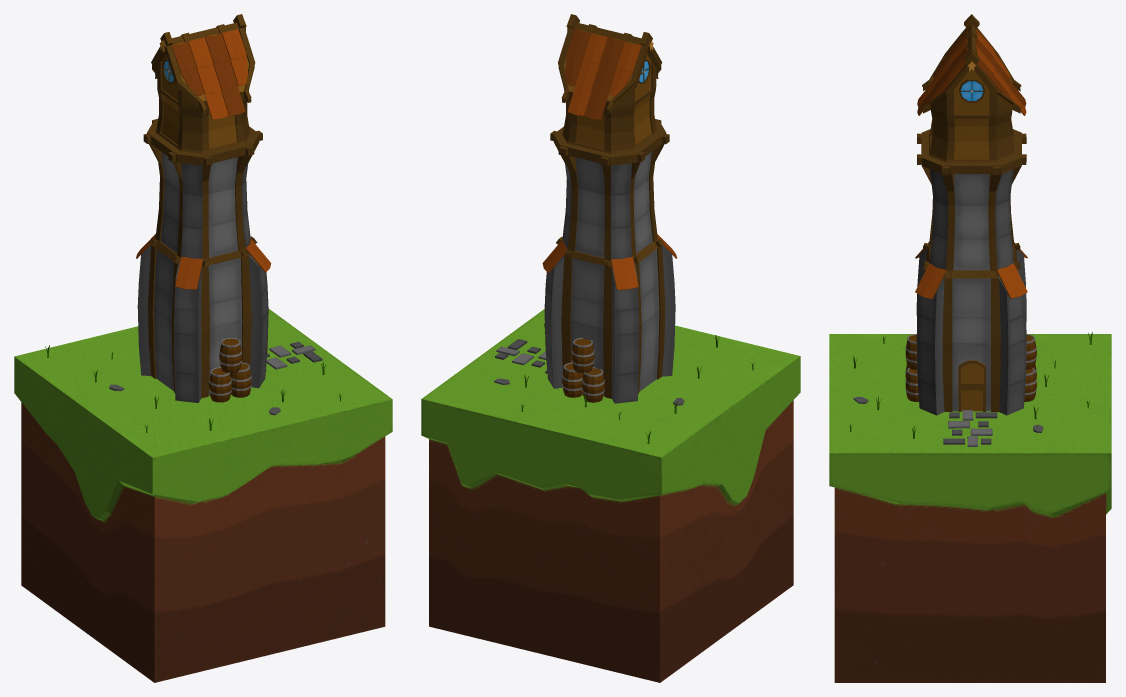
Rendered from Concepts_11.fbx.
3 renders of one model, left to right at view 1: azimuth 30°, elevation 25°; view 2: azimuth 150°, elevation 25°; view 3: azimuth 270°, elevation 25°, orthographic.
Parts seen in each view (by area): view 1: Cube.139, Cube.021, Cube.140, Cube.210, Cube.206; view 2: Cube.139, Cube.021, Cube.140, Cube.216, Cube.212; view 3: Cube.139, Cube.021, Cube.140, Cube.141.
Boxes of the visible parts, left/top/right/bottom form: Cube.139: left=14, top=309, right=392, bottom=682; Cube.021: left=136, top=14, right=271, bottom=402; Cube.140: left=266, top=341, right=322, bottom=371; Cube.210: left=219, top=343, right=242, bottom=372; Cube.206: left=209, top=373, right=231, bottom=402; Cube.139: left=421, top=309, right=800, bottom=682; Cube.021: left=542, top=14, right=676, bottom=403; Cube.140: left=495, top=339, right=547, bottom=373; Cube.216: left=571, top=342, right=594, bottom=372; Cube.212: left=582, top=372, right=604, bottom=402; Cube.139: left=829, top=334, right=1111, bottom=682; Cube.021: left=915, top=14, right=1027, bottom=415; Cube.140: left=943, top=410, right=997, bottom=446; Cube.141: left=849, top=332, right=1092, bottom=438.
Bounding box in the file's own units: 301 × 698 × 301.
